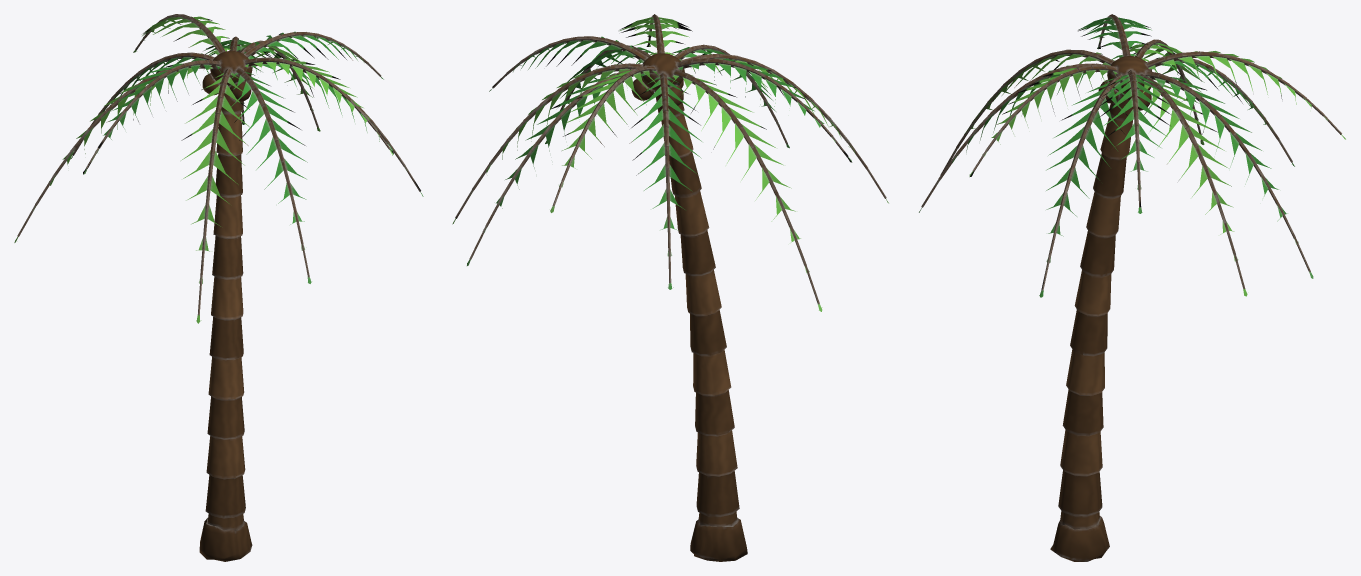
Rendered from tf_palm_tree.glb.
3 renders of one model, left to right at view 1: azimuth 30°, elevation 25°; view 2: azimuth 150°, elevation 25°; view 3: azimuth 270°, elevation 25°, orthographic. The views are drawn at different scales.
Visible parts, largest first — view 1: tf_palm_tree; view 2: tf_palm_tree; view 3: tf_palm_tree.
Boxes of the visible parts, x1,y1,x2,y2 form: tf_palm_tree: (14, 14, 423, 561); tf_palm_tree: (452, 14, 888, 561); tf_palm_tree: (919, 14, 1345, 561).
Size of the model in its own units: 5.88 by 7.95 by 5.97.
Materials: 4 (4 with a texture image).
